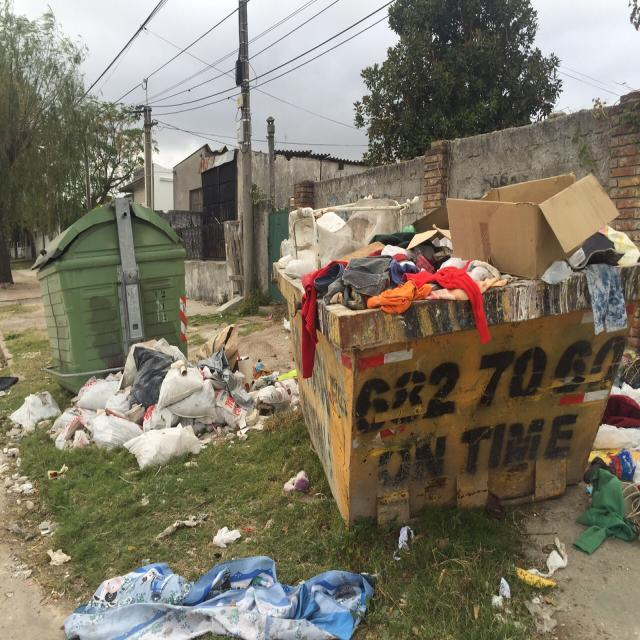garbage: (19, 328, 291, 486), (60, 556, 378, 640), (278, 196, 494, 306), (447, 166, 618, 282), (576, 448, 640, 556)
